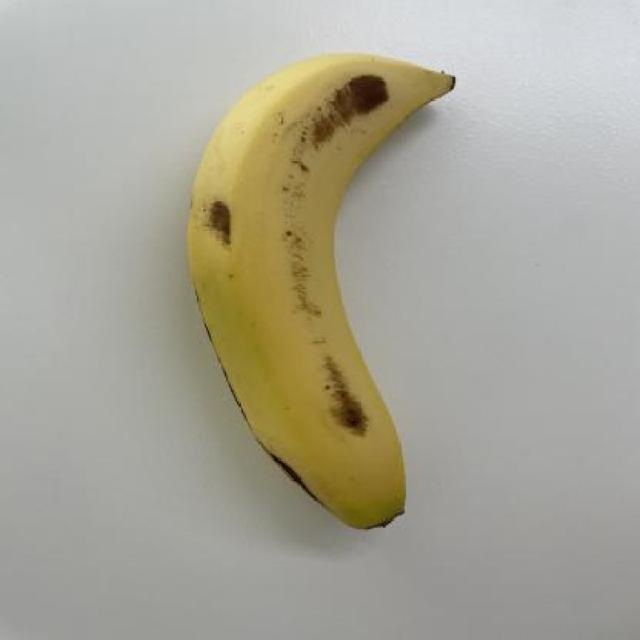Banana: (188, 52, 458, 530)
